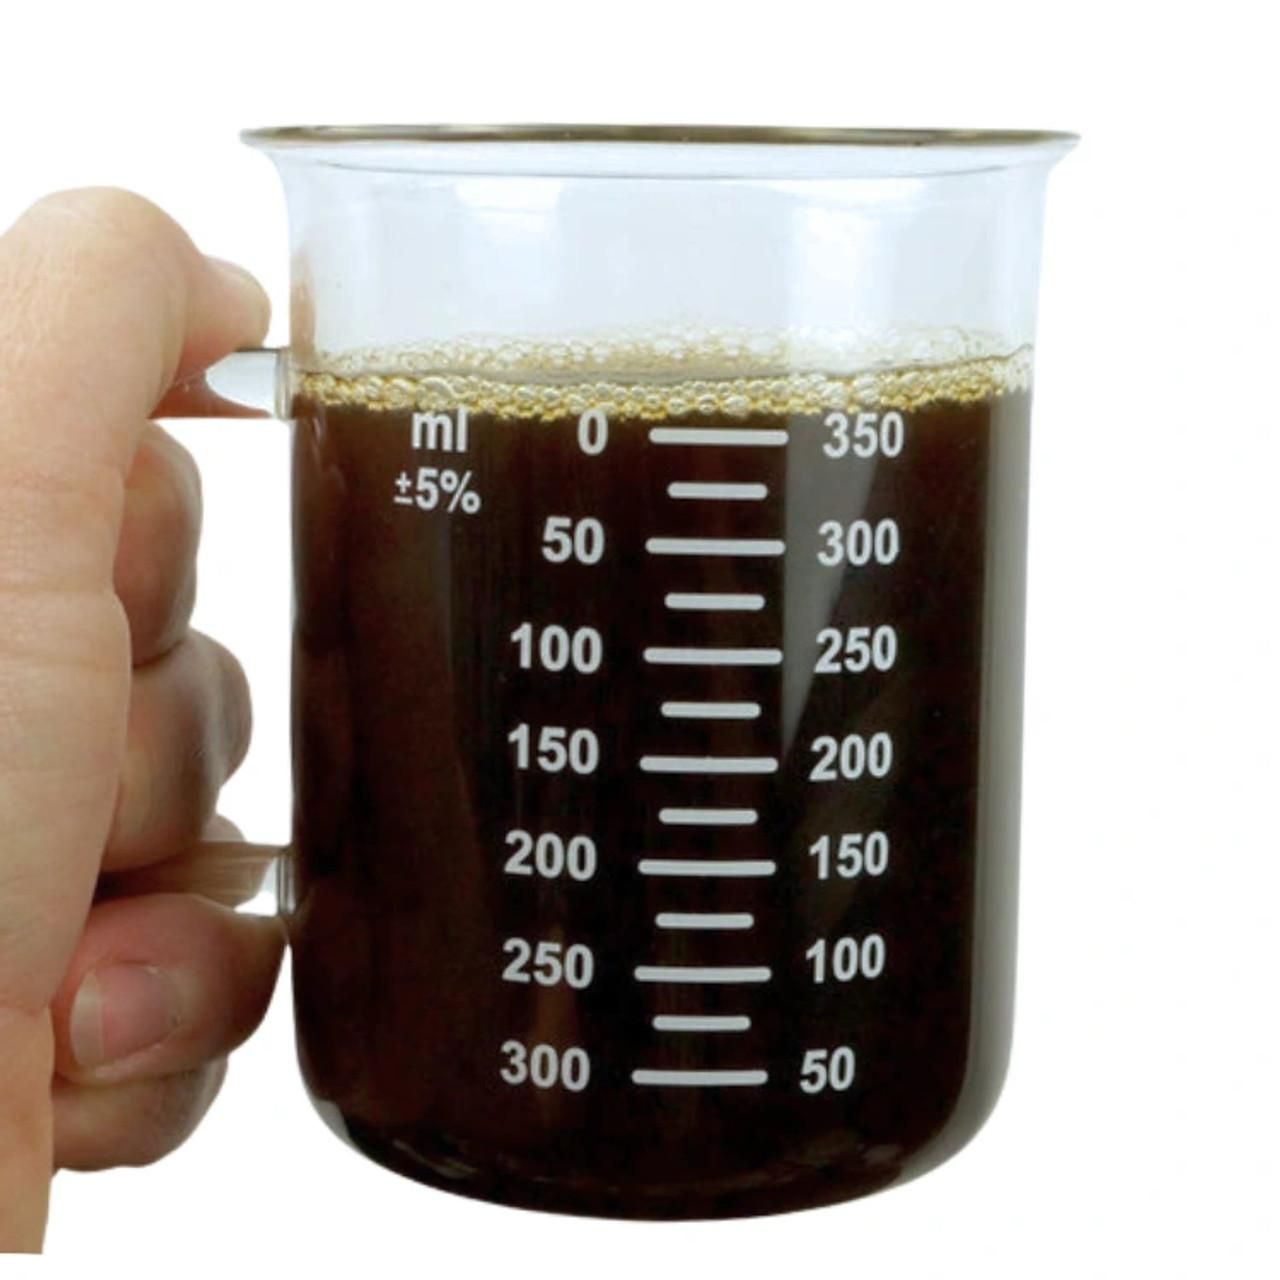Beaker: (229, 102, 1085, 1225)
